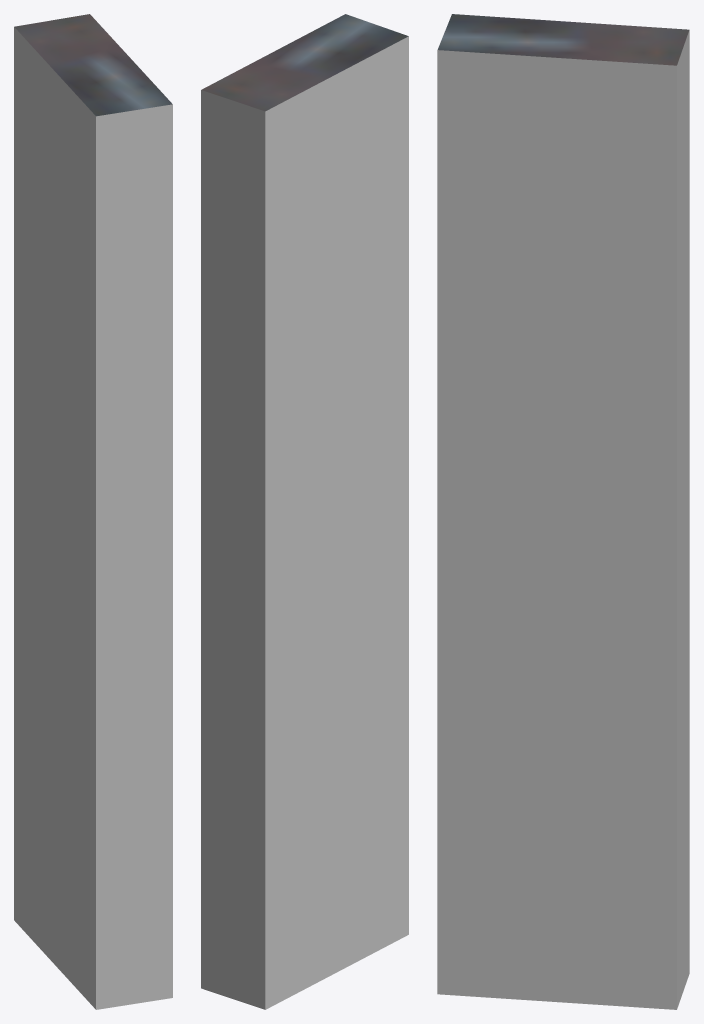
File: DEBW_0010007THY4.gltf
3 renders of one model, left to right at view 1: azimuth 30°, elevation 25°; view 2: azimuth 150°, elevation 25°; view 3: azimuth 270°, elevation 25°, orthographic. The views are drawn at different scales.
Visible parts, largest first — view 1: Z_UP; view 2: Z_UP; view 3: Z_UP.
Boxes of the visible parts, bbox=[...] form: Z_UP: bbox=[14, 14, 172, 1009]; Z_UP: bbox=[201, 14, 408, 1009]; Z_UP: bbox=[437, 14, 689, 1009].
Size of the model in its own units: 1.85 by 15.75 by 3.81.
2 materials, 1 textured.
